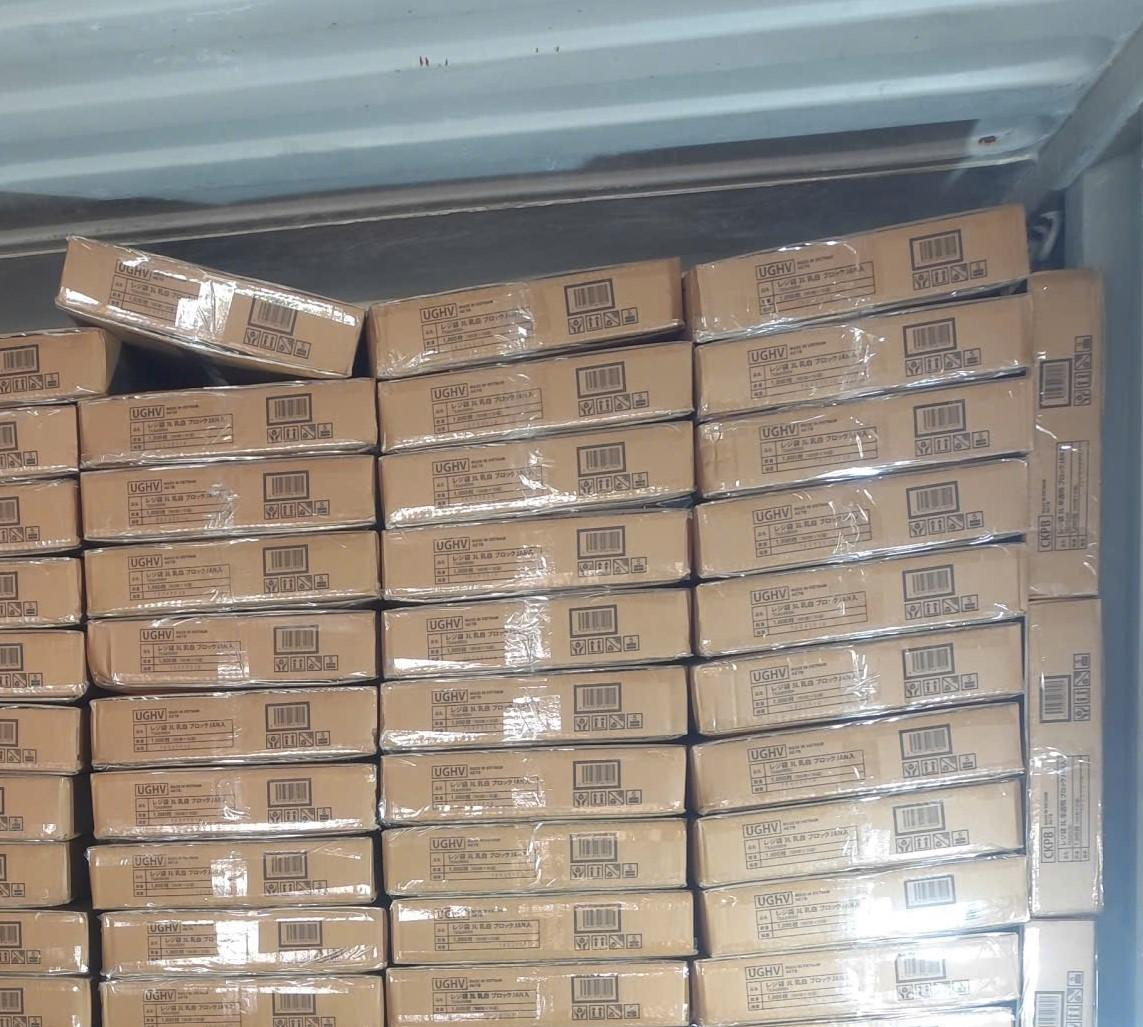carton: (688, 204, 1033, 346), (694, 290, 1028, 431), (62, 234, 373, 377), (694, 537, 1027, 670), (694, 450, 1027, 581), (702, 375, 1026, 507), (692, 702, 1020, 826), (694, 617, 1022, 739), (364, 257, 685, 378), (694, 776, 1020, 893), (376, 342, 689, 459), (381, 427, 690, 544), (699, 855, 1018, 959), (383, 504, 689, 605), (694, 932, 1017, 1025), (80, 455, 379, 554), (75, 379, 377, 473), (383, 588, 686, 678), (86, 526, 378, 619), (1024, 265, 1104, 588), (384, 742, 680, 828), (88, 606, 378, 693), (385, 816, 687, 896), (383, 666, 680, 747), (1026, 596, 1103, 906), (90, 760, 374, 844), (90, 687, 375, 767), (389, 889, 696, 961), (94, 838, 381, 913), (95, 906, 393, 974), (385, 961, 692, 1027), (102, 972, 383, 1027), (3, 327, 122, 415), (0, 397, 85, 493), (0, 475, 84, 564), (0, 553, 86, 638), (0, 622, 88, 704), (0, 702, 88, 782), (0, 769, 85, 848), (0, 833, 83, 910), (0, 907, 91, 976), (0, 973, 92, 1026)
